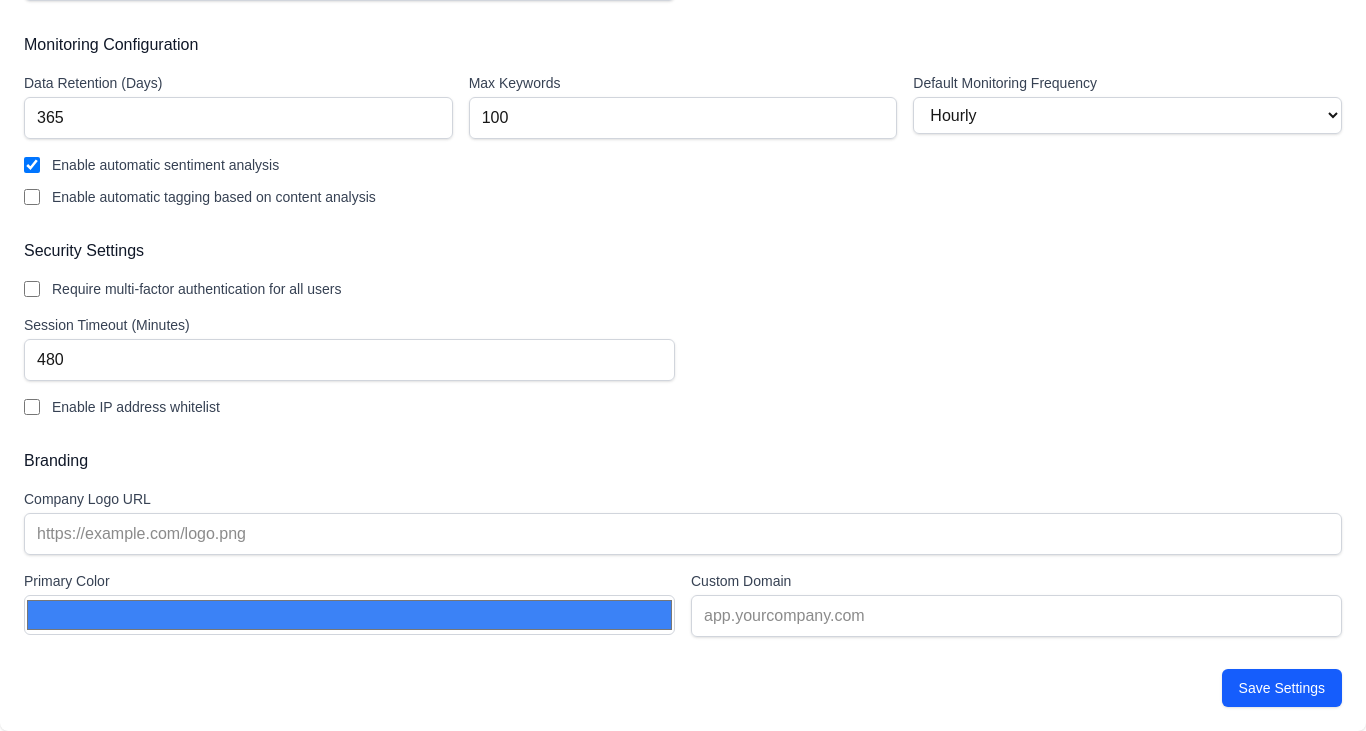
Test case: TenantSettings › displays error message when update fails
(page scrolled)
Click the button "Save Settings". click: coordinates (1282, 688)
box: [1222,669,1342,707]
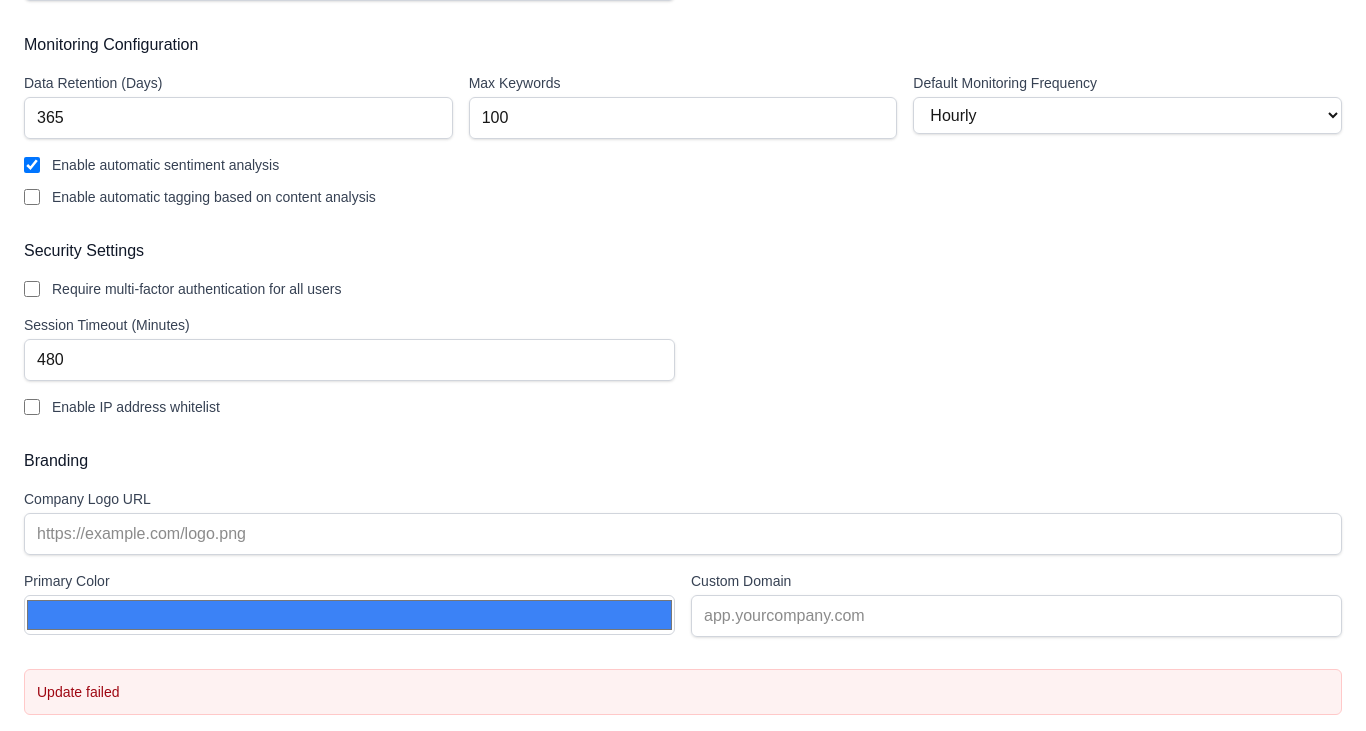
Expected: the text "Update failed" is shown, [37,684,120,700]
